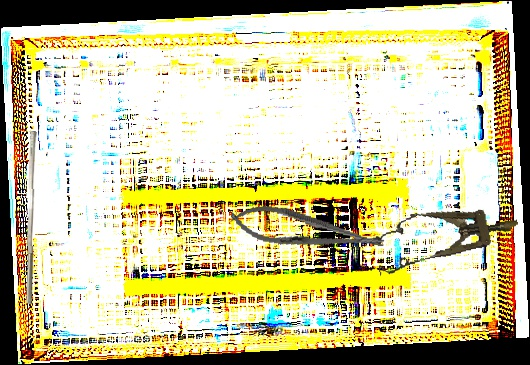Needle Holder: (226, 198, 388, 264)
Pusher: (23, 130, 40, 305)
Speculum: (369, 194, 524, 279)
